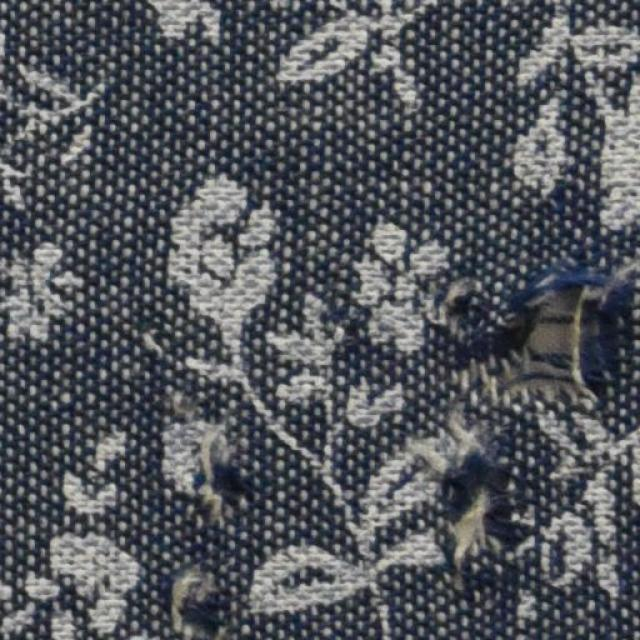Hole: (533, 304, 594, 378)
Snag: (459, 266, 610, 415), (436, 402, 521, 576), (183, 404, 238, 520), (173, 561, 235, 639)
